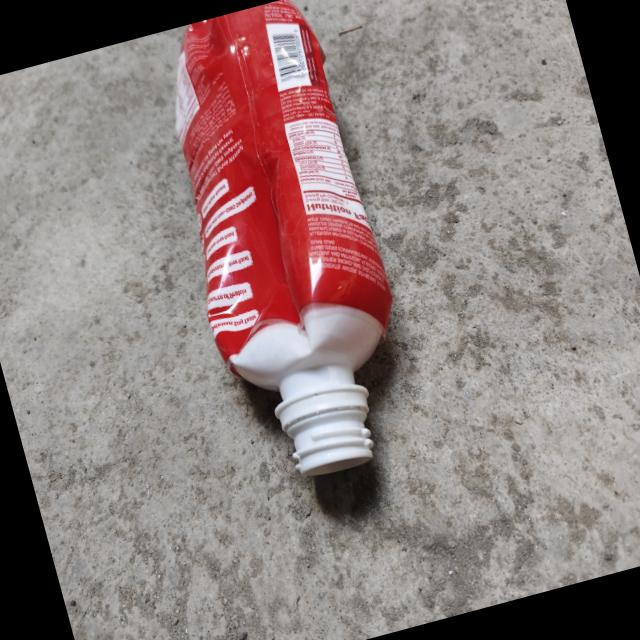Bottle: (173, 0, 393, 522)
